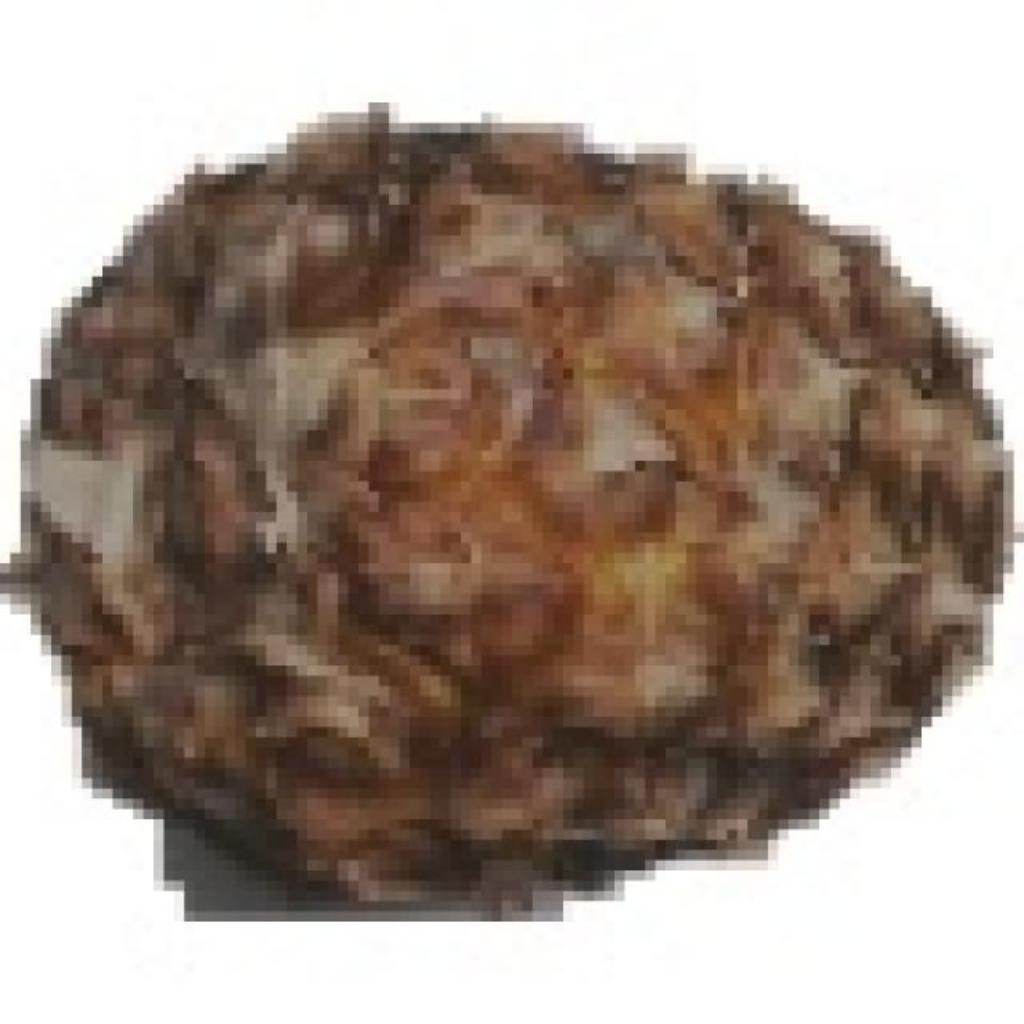pineapple: (41, 102, 1024, 891)
